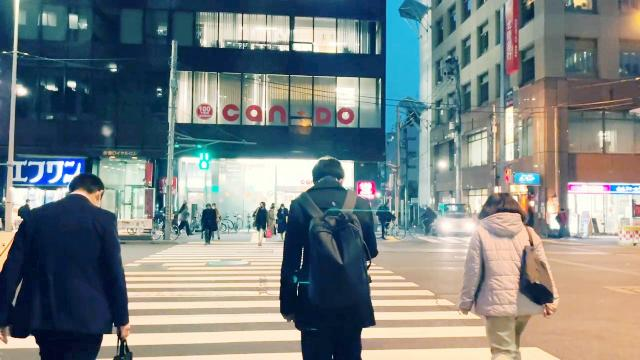berjalan: (0, 166, 132, 360), (280, 156, 380, 360), (460, 190, 560, 360)
